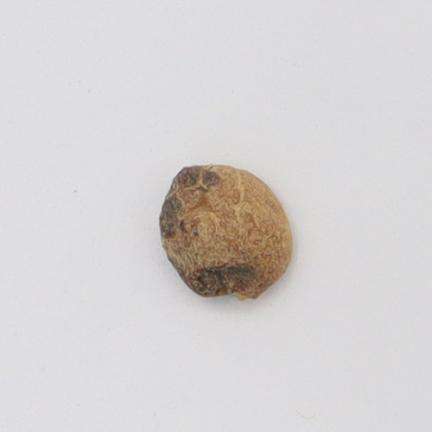partial-black: (160, 165, 292, 299)
